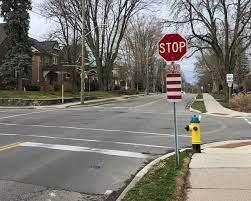Stop-Sign: (156, 33, 186, 62)
